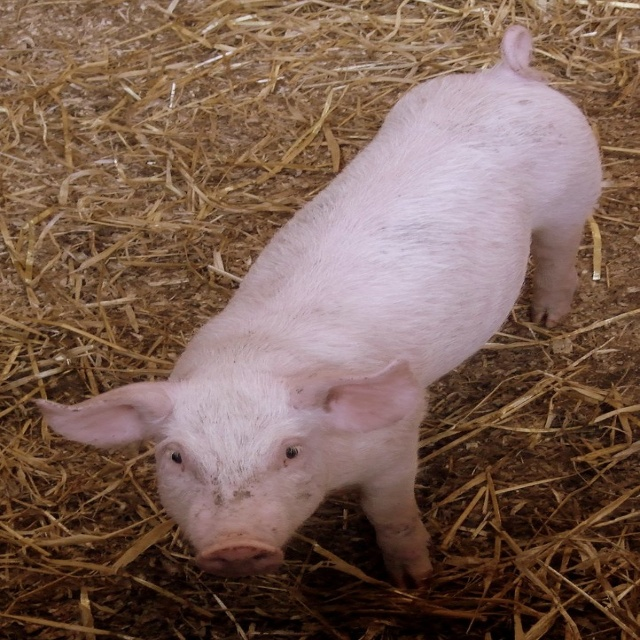Pig: (30, 21, 604, 580)
